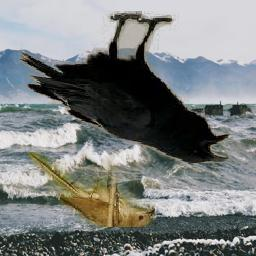Crow: (21, 11, 230, 163)
Cuckoo: (29, 153, 156, 228)
